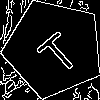T: (29, 23, 83, 78)
